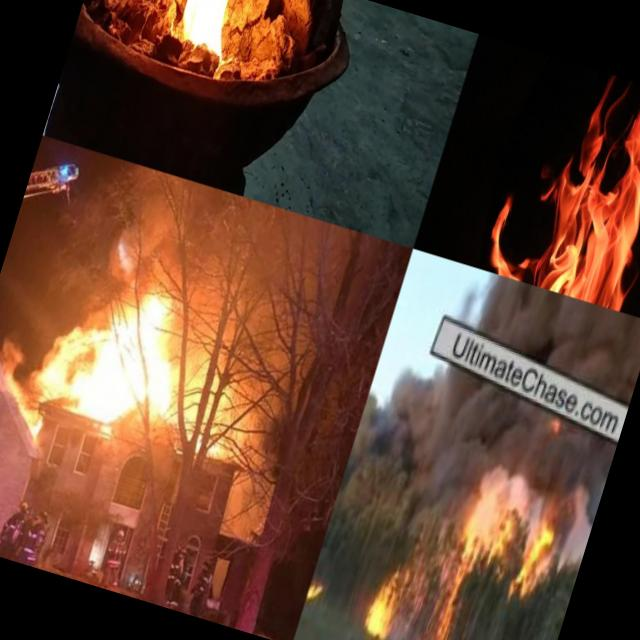fire: (460, 48, 640, 321), (26, 283, 186, 456), (419, 469, 563, 640), (127, 0, 248, 60), (347, 550, 412, 640), (0, 332, 47, 415), (302, 561, 332, 615)
smoke: (342, 363, 500, 528), (523, 432, 616, 597)
